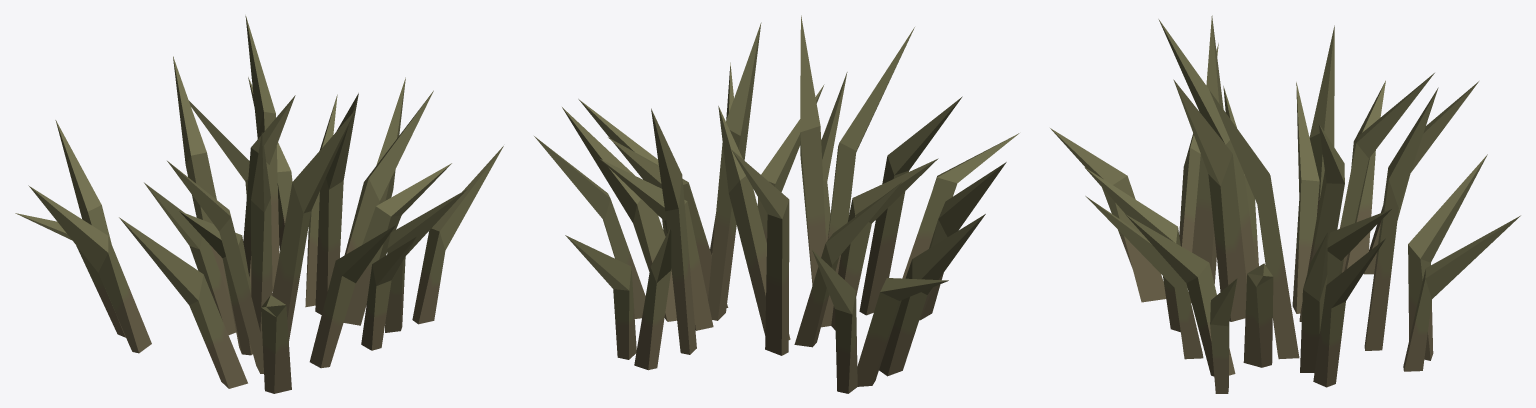
The model's file is SM_Env_Grass_04.glb.
3 renders of one model, left to right at view 1: azimuth 30°, elevation 25°; view 2: azimuth 150°, elevation 25°; view 3: azimuth 270°, elevation 25°, orthographic. The views are drawn at different scales.
Visible parts, largest first — view 1: SM_Env_Grass_04; view 2: SM_Env_Grass_04; view 3: SM_Env_Grass_04.
Part boxes in pixels (x1,y1,x2,y2): SM_Env_Grass_04: (15,15,503,393); SM_Env_Grass_04: (534,15,1019,393); SM_Env_Grass_04: (1050,15,1520,393).
Size of the model in its own units: 1.99 by 1.14 by 1.79.
Materials: 1 (1 with a texture image).
